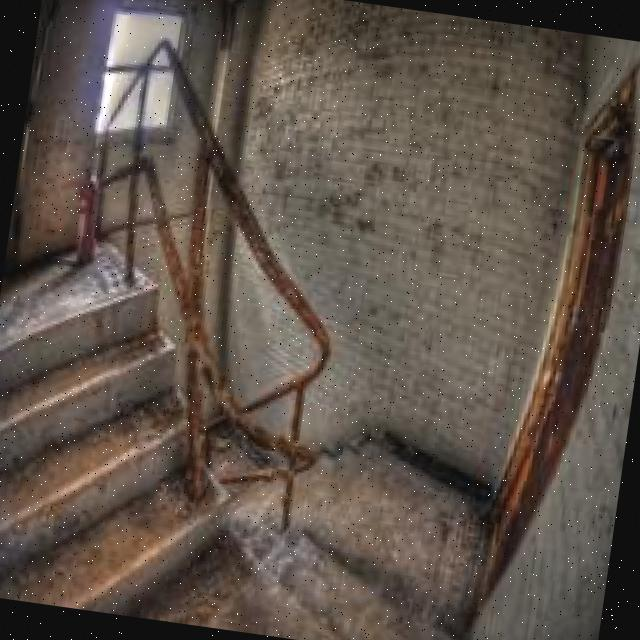stairs: (0, 92, 493, 640)
